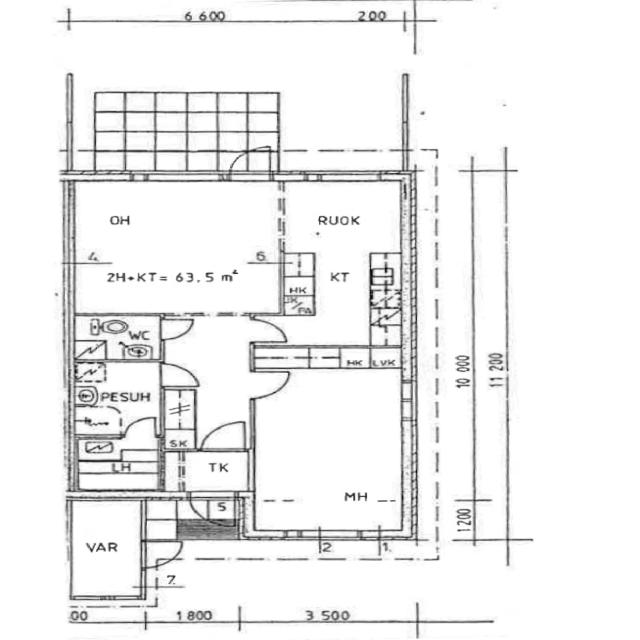door: (199, 418, 252, 454), (224, 144, 276, 179), (184, 493, 236, 525), (249, 369, 295, 400), (247, 315, 293, 345), (139, 540, 188, 568), (156, 361, 202, 390), (156, 316, 198, 342), (121, 416, 161, 440)
window: (302, 168, 388, 187), (392, 70, 416, 128)
zone: (251, 343, 413, 537), (65, 178, 288, 315), (289, 252, 406, 342), (280, 180, 408, 254), (66, 495, 148, 603), (70, 359, 163, 438), (71, 436, 164, 496), (72, 314, 162, 361), (167, 450, 254, 494), (71, 437, 160, 464), (163, 429, 198, 451)
